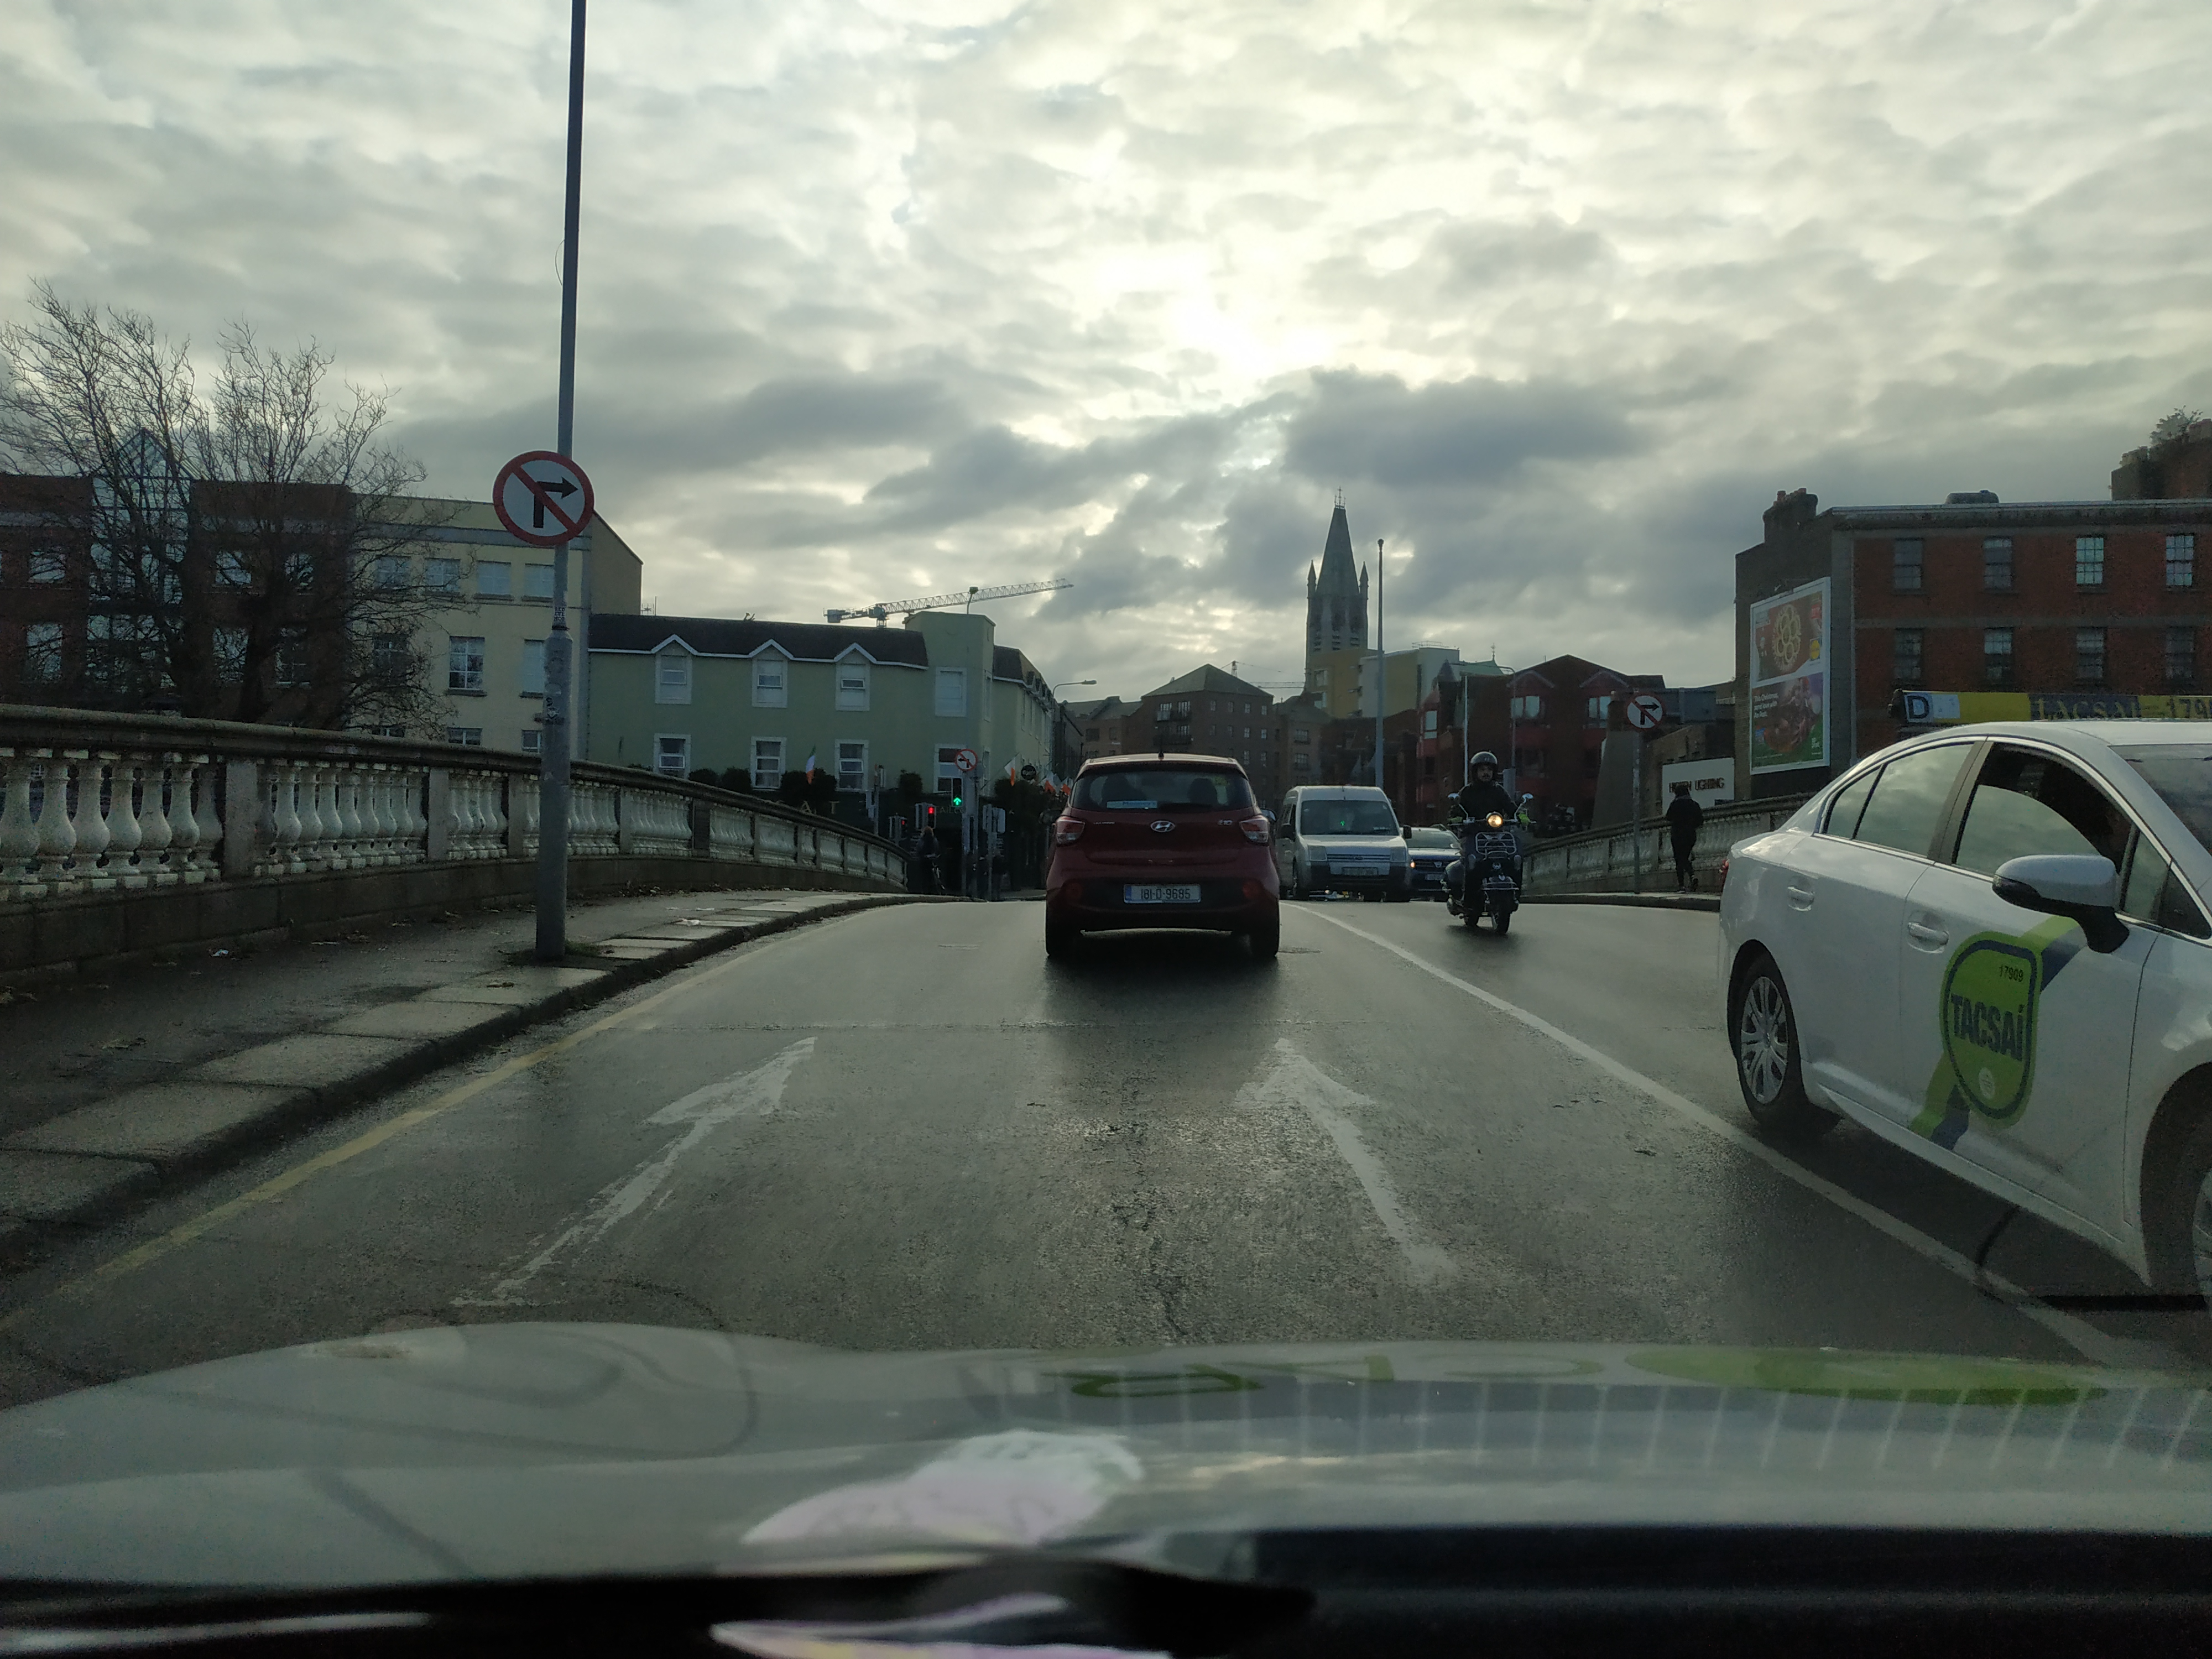Bicycle: (926, 852, 947, 895)
Car: (1045, 753, 1282, 958)
Person: (1450, 753, 1531, 907), (1662, 780, 1705, 893), (917, 827, 938, 894), (993, 849, 1007, 901)
Scooter: (1443, 792, 1533, 933)
Taxi: (1718, 689, 2212, 1343)
Van: (1271, 785, 1413, 902)
